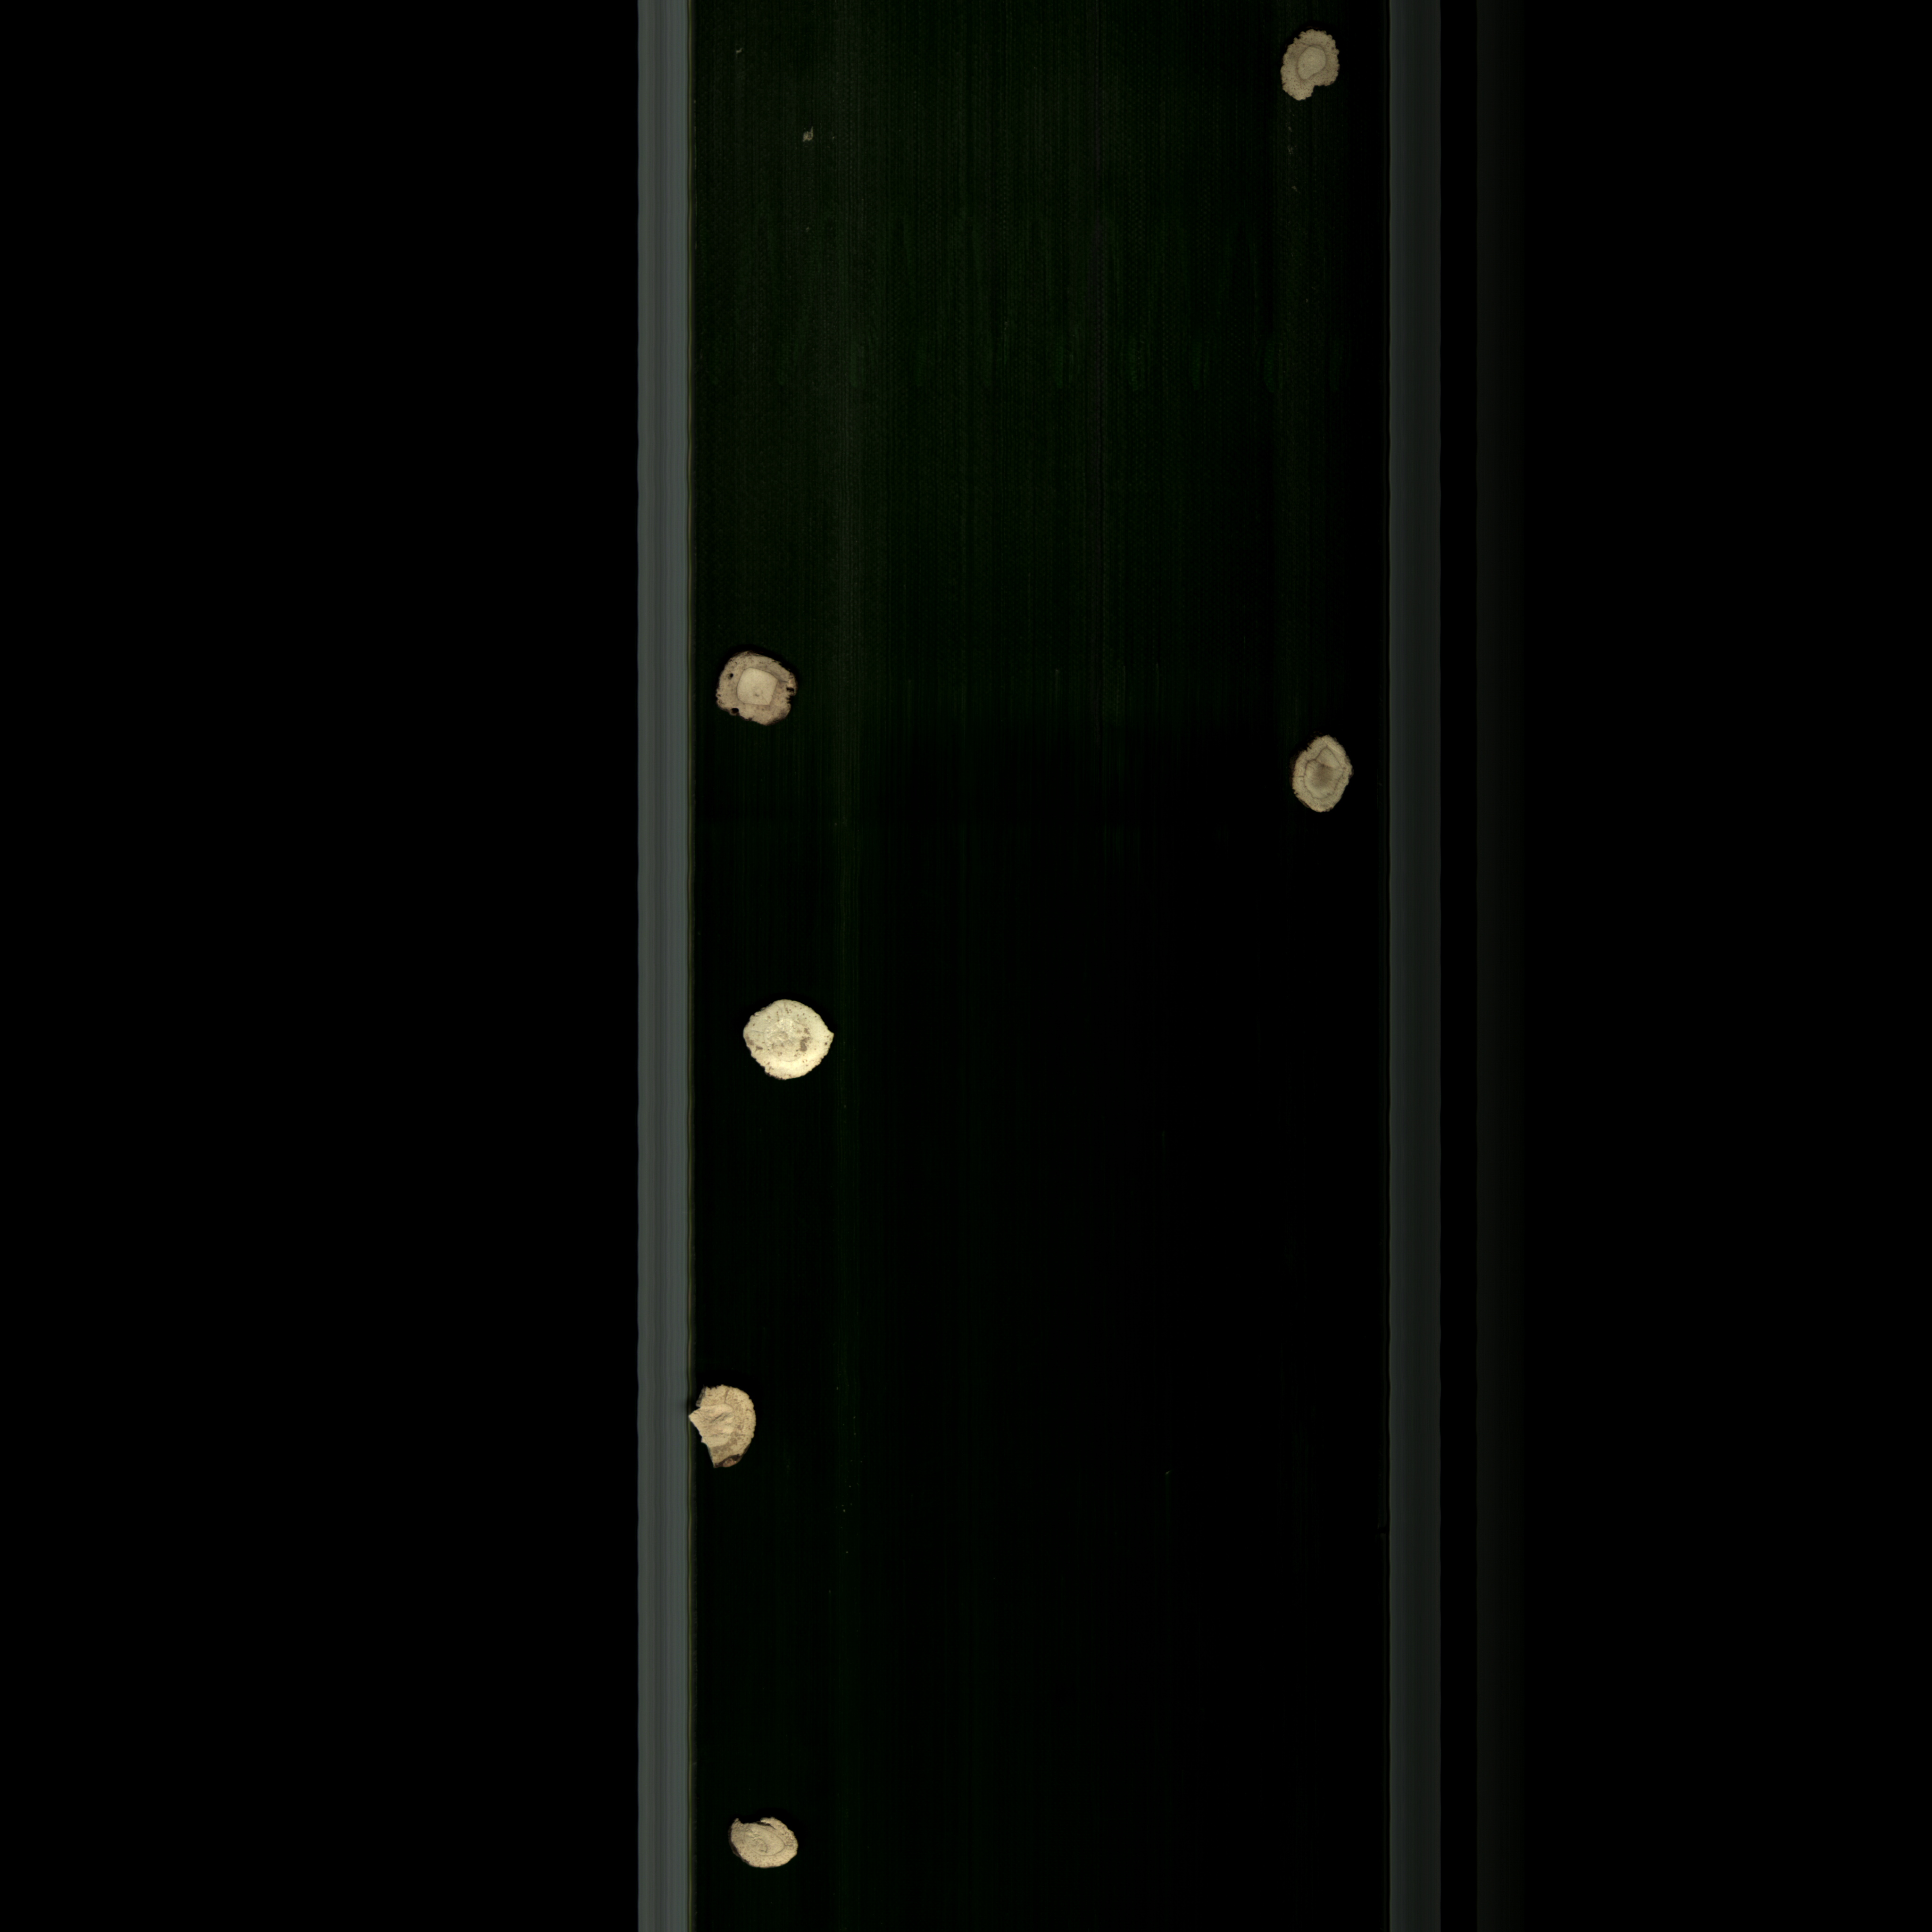debris: (727, 998, 856, 1083), (674, 1378, 778, 1483), (715, 1806, 823, 1886)
hole: (704, 642, 812, 743)
moldy: (1286, 731, 1373, 835), (1270, 19, 1361, 119)
